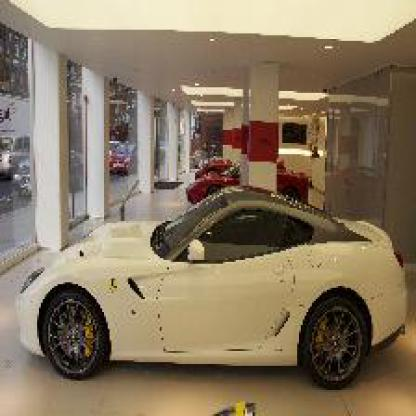not_emergency: (8, 194, 396, 381)
